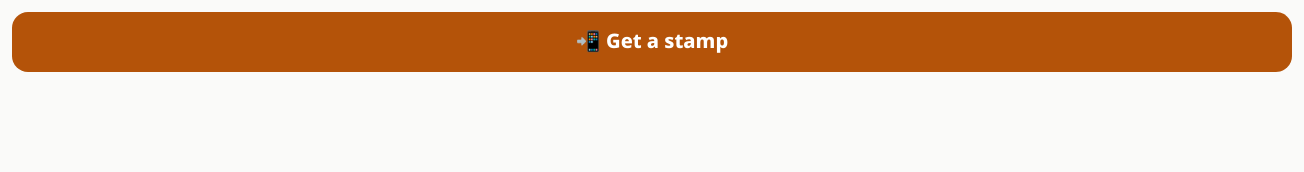
CollectStamp › a tag from another shop is rejected
Click the button "📲 Get a stamp": x=652, y=42 x1=12 y1=12 x2=1292 y2=72
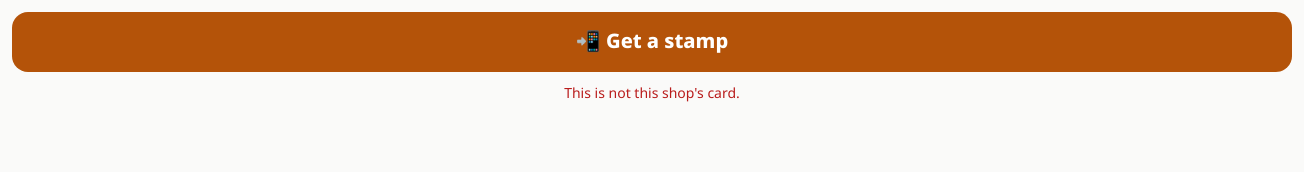
expect the text "This is not this shop's card." is shown: met, box x1=564 y1=83 x2=740 y2=104
